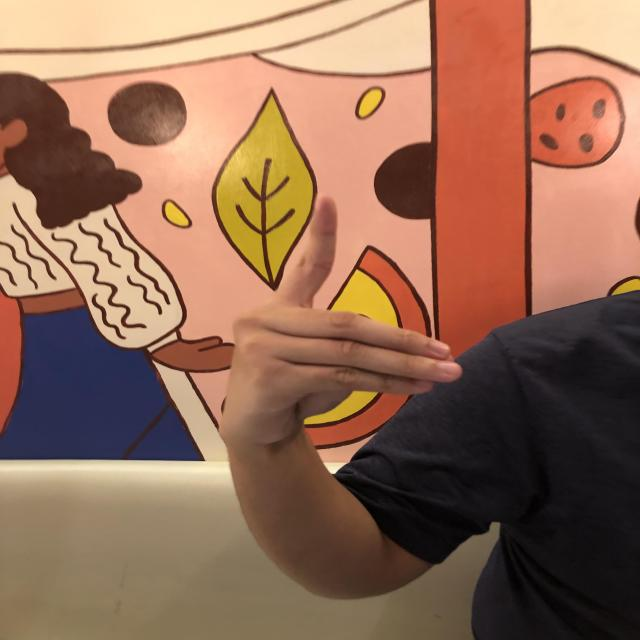D: (220, 193, 465, 443)
